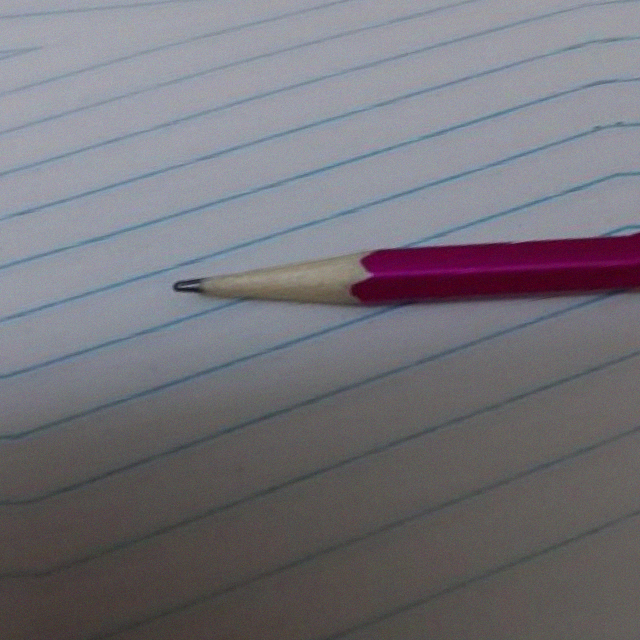pencil: (171, 229, 393, 328)
